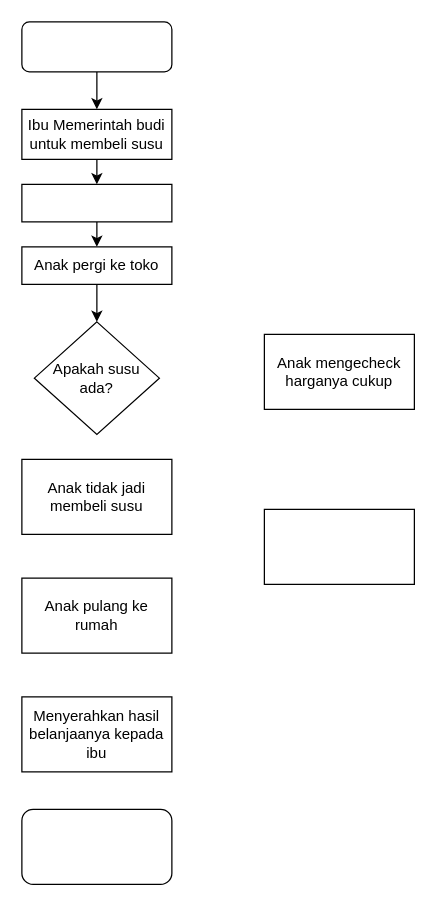
Image size: 436x906. Some labels were removed from this diagram. Here are the shapes that lost their labels. From the top down, the box of each, then its label:
(21, 21, 172, 72): Mulai
(21, 183, 172, 222): Anak menjawab "OK"
(21, 808, 172, 884): Selesai
